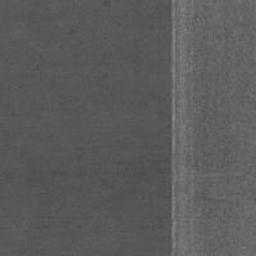Welding line: (169, 0, 179, 256)
